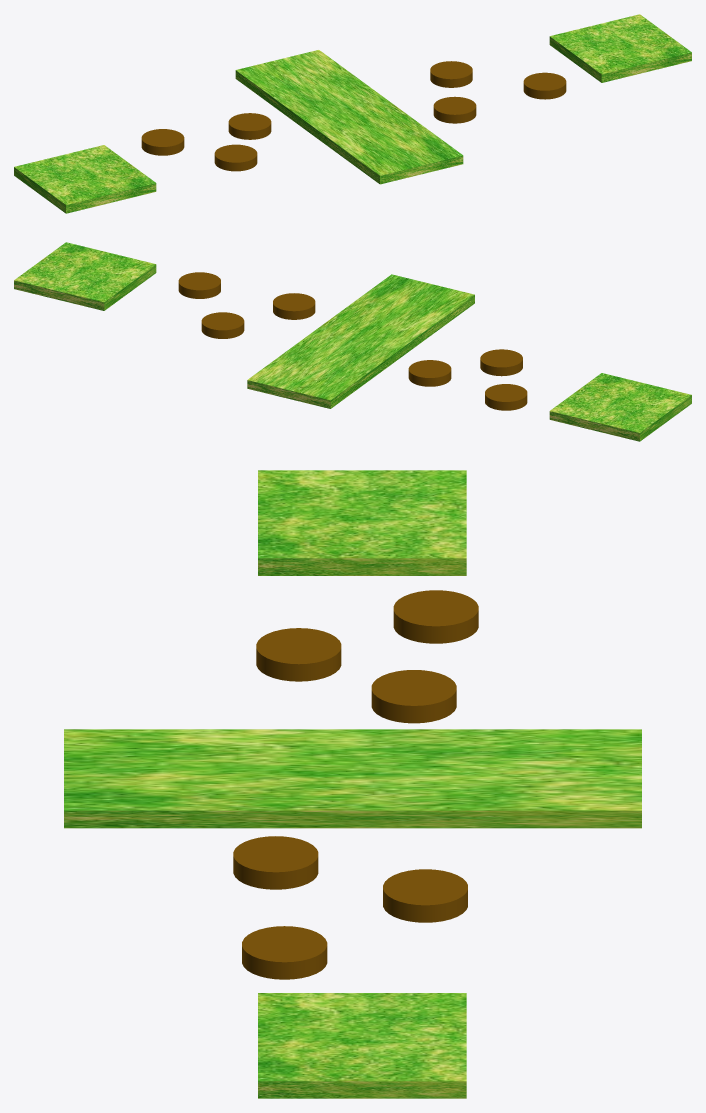
File: first_Stage.fbx
The picture shows the model from 3 angles, top to bottom: view 1: azimuth 30°, elevation 25°; view 2: azimuth 150°, elevation 25°; view 3: azimuth 270°, elevation 25°; orthographic projection. The views are drawn at different scales.
Visible parts, largest first — view 1: pCube3; view 2: pCube3; view 3: pCube3.
Boxes of the visible parts, bbox=[...] form: pCube3: bbox=[14, 14, 691, 213]; pCube3: bbox=[14, 242, 691, 441]; pCube3: bbox=[64, 470, 641, 1098].
Bounding box in the file's own units: 75.06 × 1 × 30.
2 materials, 1 textured.
